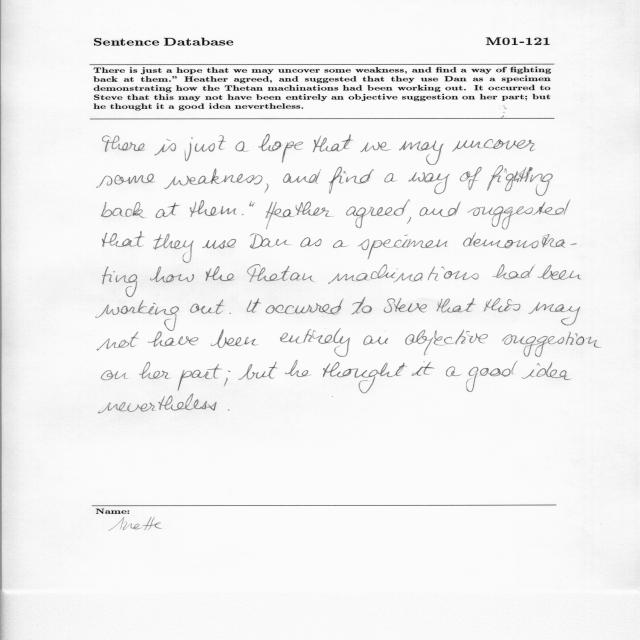word: (467, 200, 571, 230), (328, 264, 479, 284), (323, 362, 407, 393), (96, 300, 179, 331), (502, 332, 601, 357), (357, 235, 448, 259), (405, 330, 488, 356), (487, 165, 553, 196), (280, 328, 350, 357), (164, 169, 263, 189), (265, 202, 334, 230), (463, 233, 577, 249), (99, 394, 194, 413), (346, 200, 410, 228), (466, 361, 517, 392), (259, 134, 304, 163), (247, 265, 315, 283), (329, 167, 374, 194), (177, 364, 222, 391), (529, 302, 581, 325), (153, 234, 194, 263), (266, 299, 344, 314), (399, 141, 444, 166), (103, 267, 138, 298), (452, 139, 535, 152), (185, 135, 226, 161), (408, 172, 450, 194), (211, 329, 258, 348), (522, 362, 571, 380), (148, 331, 199, 347), (97, 174, 155, 188), (190, 200, 237, 217), (97, 332, 139, 351), (102, 135, 145, 152), (313, 135, 353, 153), (238, 362, 278, 380), (102, 202, 146, 218), (150, 267, 194, 283), (102, 231, 145, 247), (538, 265, 582, 280), (250, 233, 291, 249), (384, 298, 427, 313), (419, 202, 461, 217), (493, 265, 535, 280), (437, 298, 476, 313), (283, 169, 321, 184), (140, 362, 172, 379), (190, 299, 225, 314), (484, 298, 521, 312), (460, 167, 482, 190), (285, 360, 311, 377), (206, 266, 234, 281), (156, 202, 181, 218), (351, 297, 372, 315), (154, 139, 176, 156), (412, 361, 435, 376), (203, 239, 237, 249), (361, 142, 391, 152), (193, 399, 217, 411), (101, 371, 128, 381), (363, 335, 388, 345), (300, 238, 322, 248), (247, 298, 261, 313), (235, 141, 249, 152), (446, 367, 461, 377), (333, 240, 348, 248), (384, 173, 397, 182), (224, 371, 230, 387), (265, 183, 269, 193), (249, 201, 255, 207), (407, 217, 411, 224), (242, 214, 244, 215), (229, 313, 231, 314)
